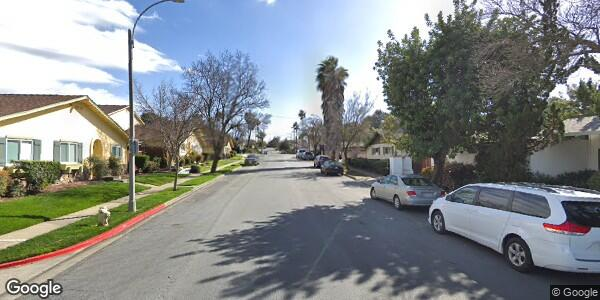Steel_Pole: (124, 1, 185, 214)
